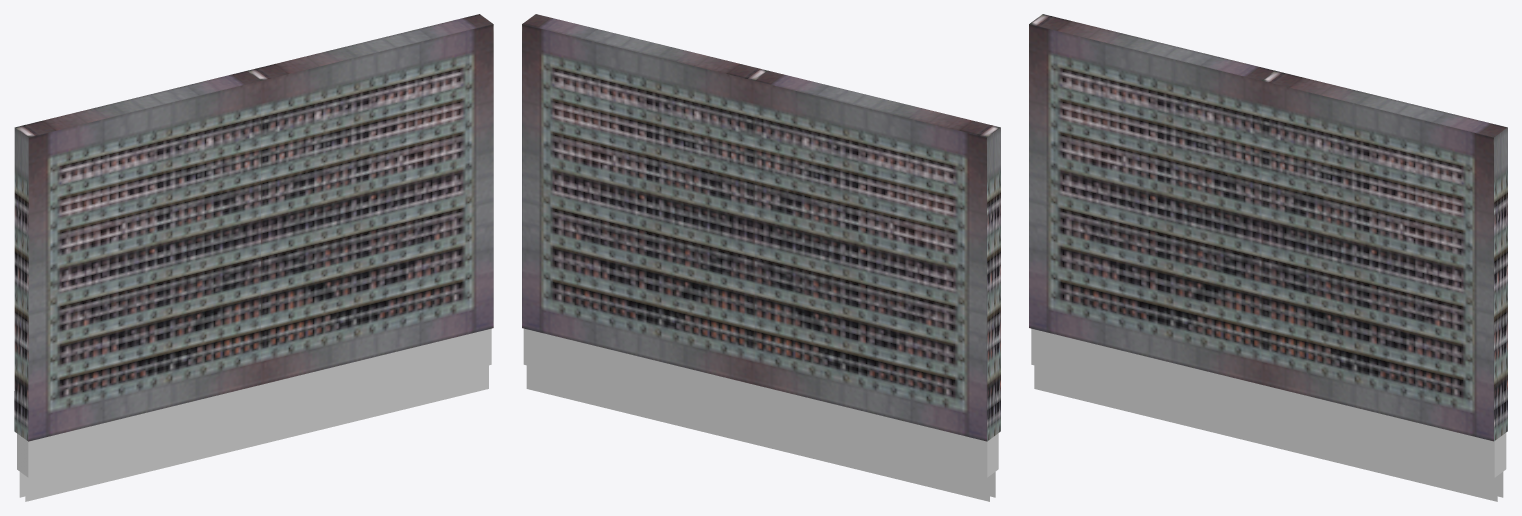
Rendered from DoorPP1.glb.
The picture shows the model from 3 angles, left to right: view 1: azimuth 30°, elevation 25°; view 2: azimuth 150°, elevation 25°; view 3: azimuth 330°, elevation 25°; orthographic projection.
Visible parts, largest first — view 1: DoorPP1; view 2: DoorPP1; view 3: DoorPP1.
Boxes of the visible parts, box(x1,y1,x2,y2) form: DoorPP1: box(14, 14, 493, 501); DoorPP1: box(522, 14, 1000, 501); DoorPP1: box(1029, 14, 1507, 501).
Bounding box in the file's own units: 1260 × 951 × 64.83.
Materials: 2 (1 with a texture image).
